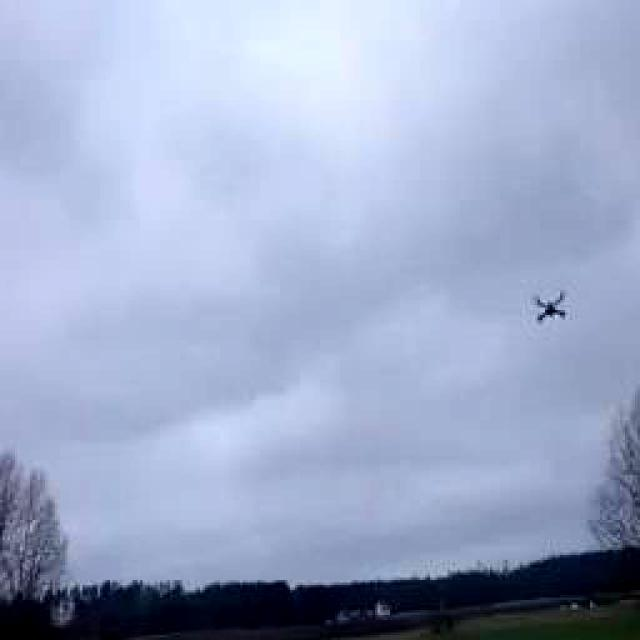bird: (498, 269, 592, 341)
